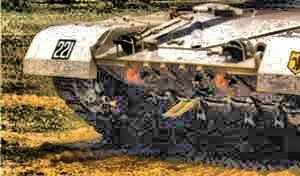tanks: (24, 1, 300, 147)
